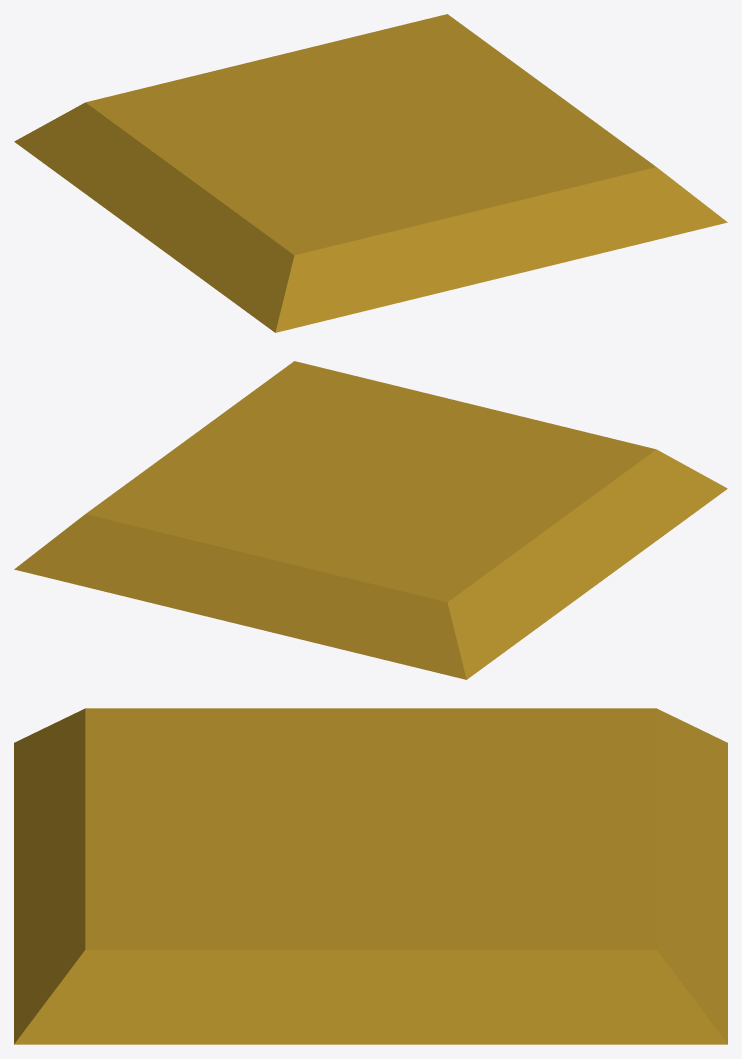
The model's file is Presure Plate.glb.
3 views of the same model, one above another, from view 1: azimuth 30°, elevation 25°; view 2: azimuth 150°, elevation 25°; view 3: azimuth 270°, elevation 25° (orthographic). The views are drawn at different scales.
Parts seen in each view (by area): view 1: Presure plate; view 2: Presure plate; view 3: Presure plate.
Boxes of the visible parts, left/top/right/bottom form: Presure plate: left=14, top=14, right=727, bottom=332; Presure plate: left=14, top=361, right=727, bottom=679; Presure plate: left=14, top=708, right=727, bottom=1044.
Size of the model in its own units: 1 by 0.1 by 1.
